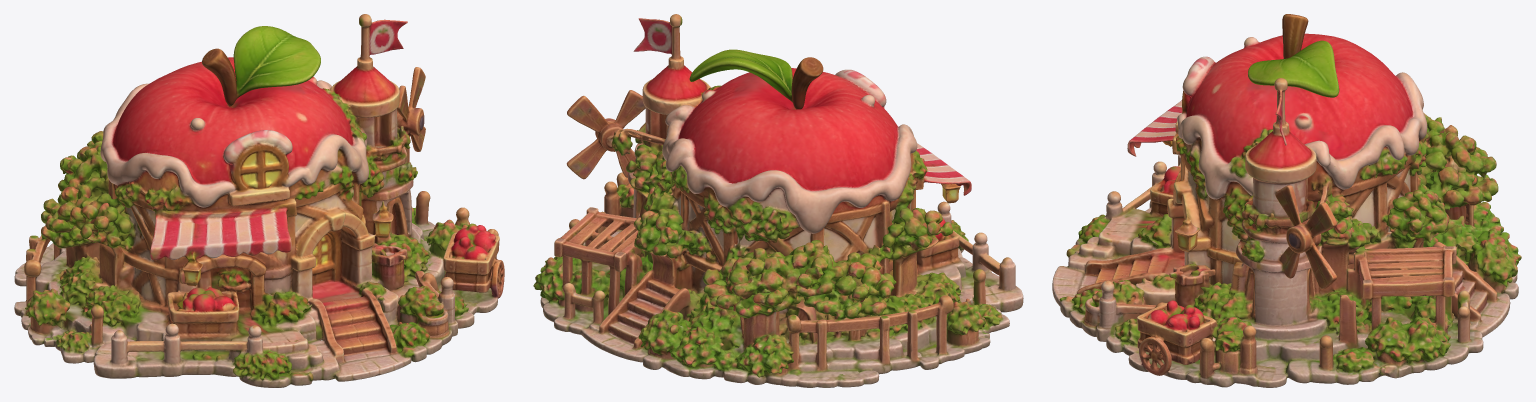
File: Meshy_AI_Apple_Blossom_Cottage_20261118_texture.fbx
3 renders of one model, left to right at view 1: azimuth 30°, elevation 25°; view 2: azimuth 150°, elevation 25°; view 3: azimuth 270°, elevation 25°, orthographic. The views are drawn at different scales.
Parts seen in each view (by area): view 1: Mesh_0; view 2: Mesh_0; view 3: Mesh_0.
Boxes of the visible parts, left/top/right/bottom form: Mesh_0: left=14, top=14, right=504, bottom=387; Mesh_0: left=533, top=14, right=1023, bottom=387; Mesh_0: left=1052, top=14, right=1521, bottom=387.
Bounding box in the file's own units: 190 × 110 × 178.
Materials: 1 (1 with a texture image).
